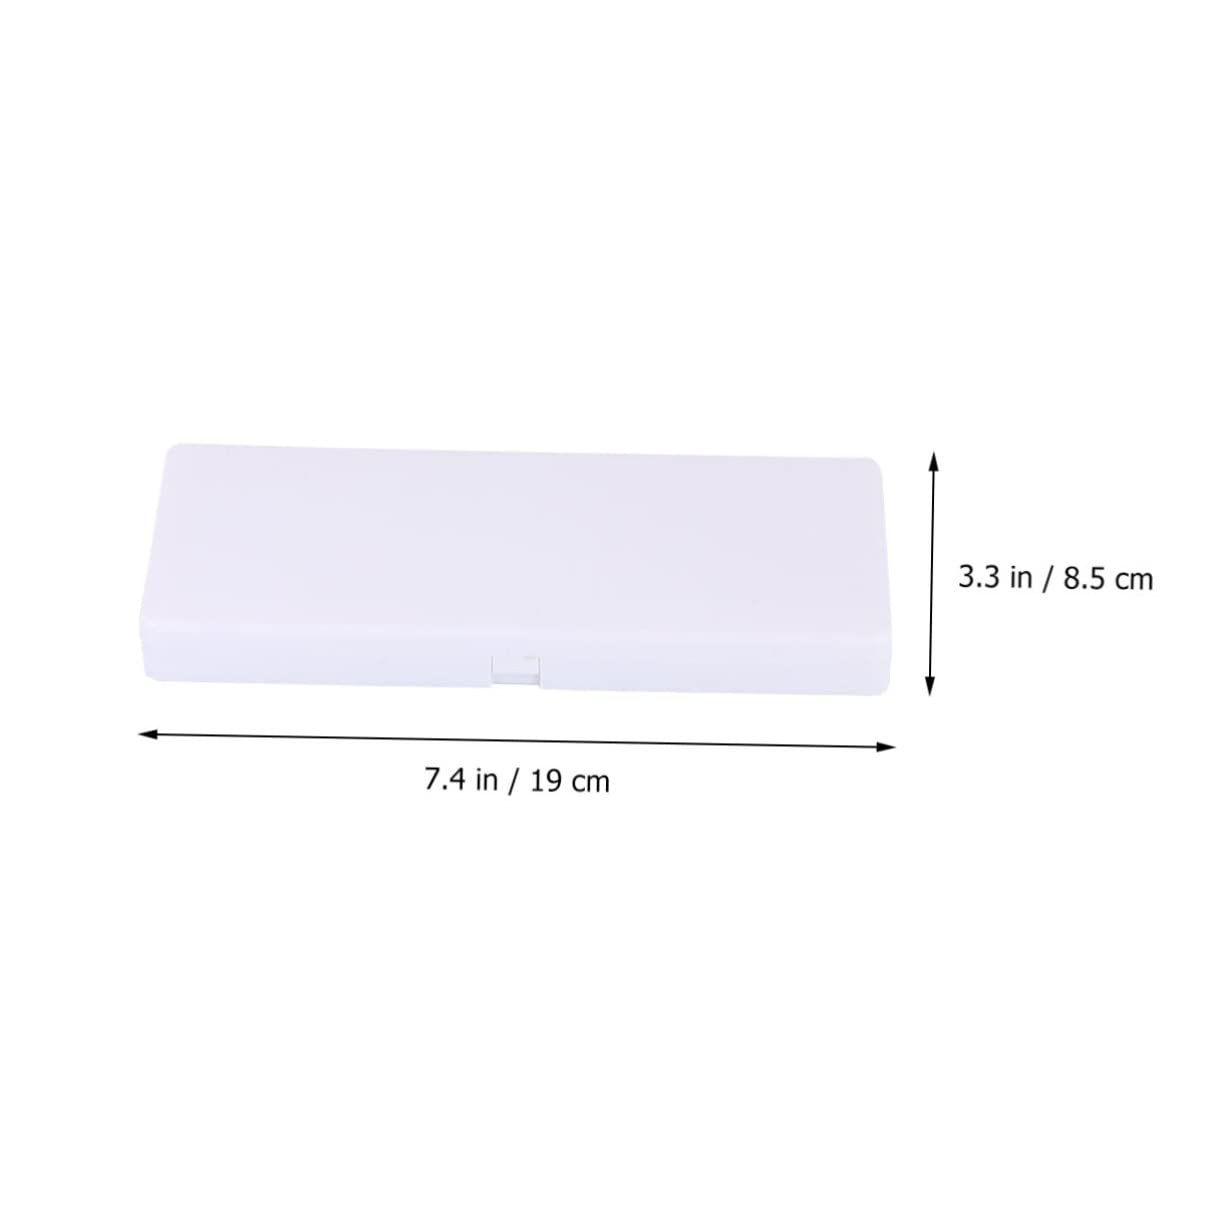/: (1044, 565, 1054, 593)
3.3: (959, 564, 999, 588)
7.4in/19cm: (425, 767, 609, 795)
8.5: (1064, 566, 1104, 590)
cm: (1116, 572, 1152, 590)
in: (1011, 566, 1032, 588)
